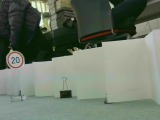speed_20: (6, 51, 24, 70)
